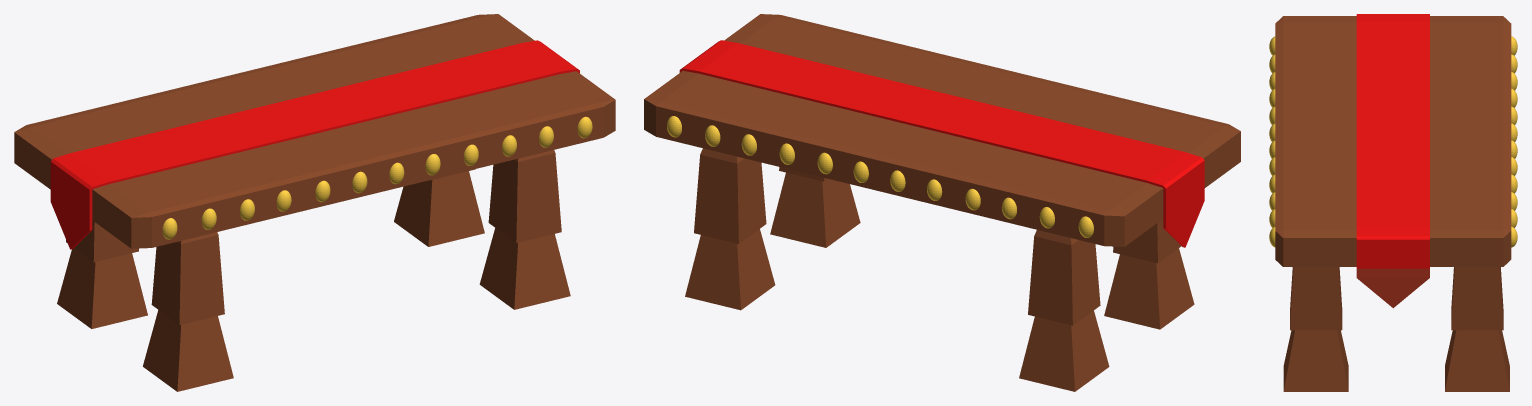
File: Mesa.fbx
3 views of the same model, side by side, from view 1: azimuth 30°, elevation 25°; view 2: azimuth 150°, elevation 25°; view 3: azimuth 270°, elevation 25° (orthographic). The views are drawn at different scales.
Visible parts, largest first — view 1: Oro; view 2: Oro; view 3: Oro.
Part boxes in pixels (x1,y1,x2,y2): Oro: (14,14,615,391); Oro: (644,14,1240,391); Oro: (1269,14,1517,391).
Bounding box in the file's own units: 1304 × 481 × 609.
7 materials, 7 textured.
